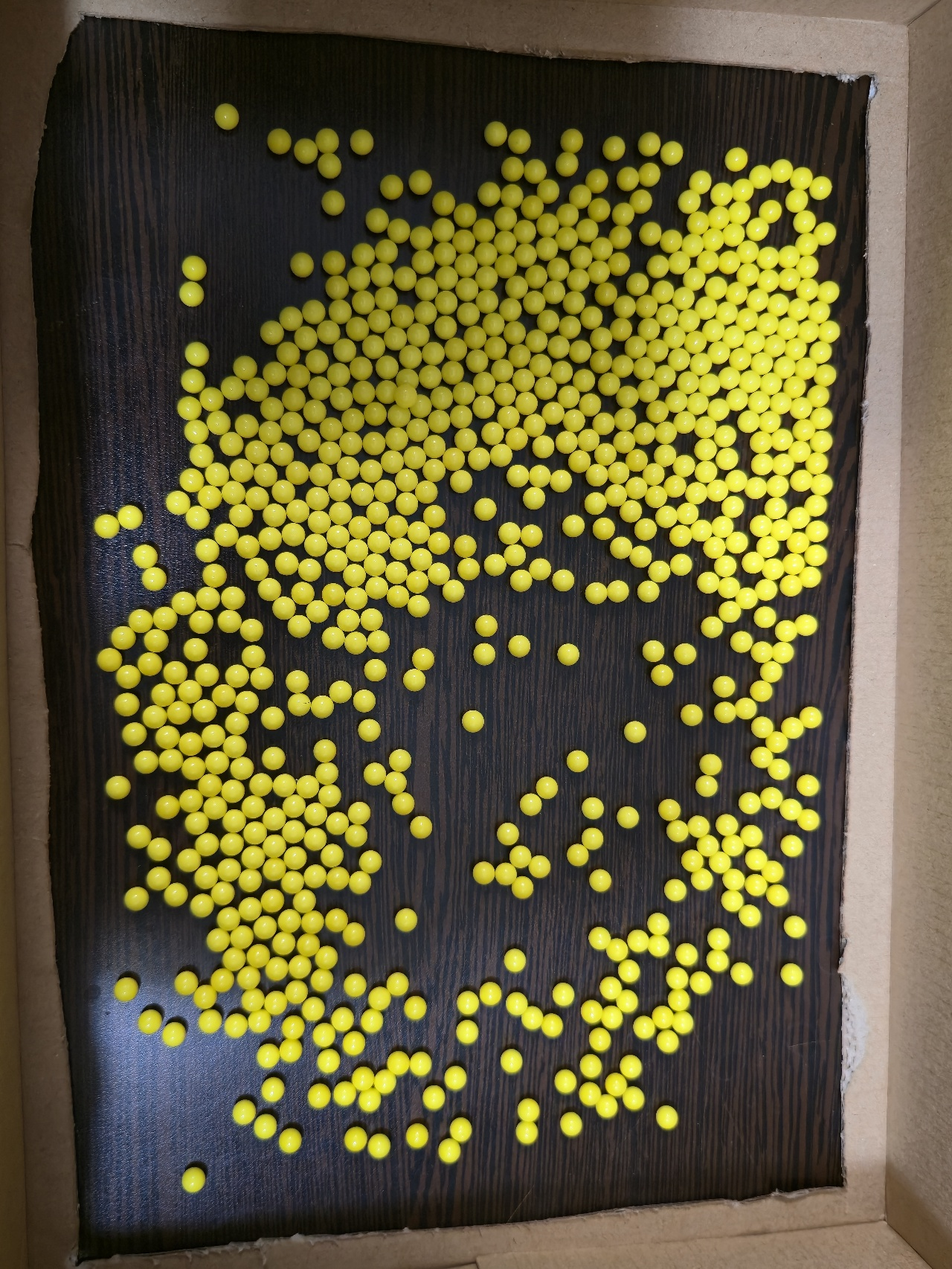yellow_bead: (138, 550, 152, 563), (123, 511, 137, 524), (191, 511, 204, 524), (195, 449, 208, 462), (509, 954, 521, 967), (100, 520, 112, 533), (173, 496, 185, 509), (225, 437, 237, 450), (755, 170, 767, 183), (776, 165, 788, 178), (210, 469, 224, 480), (695, 977, 707, 989), (786, 968, 798, 980), (744, 910, 756, 922), (201, 544, 213, 556), (727, 501, 739, 513), (333, 483, 345, 495), (776, 434, 788, 446), (799, 216, 811, 228), (260, 1120, 271, 1133), (429, 1091, 440, 1104), (506, 1055, 517, 1068), (462, 1026, 473, 1039), (527, 1012, 538, 1025), (287, 528, 300, 539), (771, 481, 784, 492), (815, 479, 828, 490), (212, 417, 225, 428), (450, 1072, 461, 1084), (463, 997, 474, 1009), (558, 989, 569, 1001), (672, 972, 684, 983), (736, 968, 747, 980), (681, 948, 692, 960), (633, 935, 644, 947), (790, 921, 801, 933), (670, 884, 681, 896), (268, 813, 279, 825), (785, 804, 797, 815), (358, 695, 370, 706), (718, 681, 730, 692), (759, 612, 771, 623), (747, 557, 759, 568), (762, 542, 774, 553), (811, 526, 823, 537), (717, 521, 728, 533), (796, 475, 808, 486), (260, 469, 272, 480), (701, 466, 712, 478), (721, 453, 733, 464), (743, 416, 755, 427), (723, 373, 735, 384), (191, 348, 202, 360), (701, 302, 712, 314), (684, 196, 695, 208), (791, 195, 803, 206), (667, 147, 678, 159), (566, 1118, 576, 1131), (416, 1057, 426, 1070), (169, 1028, 179, 1041), (639, 1021, 649, 1034), (309, 1003, 319, 1016), (512, 997, 522, 1010), (623, 995, 633, 1008), (595, 932, 605, 945), (780, 626, 793, 636), (235, 464, 248, 474), (521, 1128, 532, 1139), (523, 1105, 534, 1116), (374, 993, 385, 1004), (401, 914, 412, 925), (595, 875, 606, 886), (715, 857, 726, 868), (787, 841, 798, 852), (587, 833, 598, 844), (747, 830, 758, 841), (672, 826, 683, 837), (623, 812, 634, 823), (803, 780, 814, 791), (757, 722, 768, 733), (292, 675, 303, 686), (766, 666, 777, 677), (778, 647, 789, 658), (725, 606, 736, 617), (643, 586, 654, 597), (654, 566, 665, 577), (811, 550, 822, 561), (616, 542, 627, 553), (732, 537, 743, 548), (504, 528, 515, 539), (793, 513, 804, 524), (731, 475, 742, 486), (343, 462, 354, 473), (777, 459, 788, 470), (812, 458, 823, 469), (794, 446, 805, 457), (538, 441, 549, 452), (429, 440, 440, 451), (816, 436, 827, 447), (720, 431, 731, 442), (522, 397, 533, 408), (732, 394, 743, 405), (745, 376, 756, 387), (779, 362, 790, 373), (815, 347, 826, 358), (763, 318, 774, 329), (689, 273, 700, 284), (716, 188, 727, 199), (662, 1111, 672, 1123), (627, 1061, 637, 1073), (230, 1020, 240, 1032), (606, 982, 616, 994), (727, 897, 739, 907), (800, 620, 812, 630), (785, 581, 797, 591), (509, 550, 521, 560), (332, 530, 344, 540), (220, 529, 232, 539), (777, 524, 787, 536), (810, 501, 822, 511), (312, 492, 324, 502), (512, 470, 524, 480), (756, 437, 768, 447), (755, 396, 765, 408), (729, 331, 739, 343), (824, 286, 834, 298), (562, 1075, 571, 1088), (130, 893, 143, 902), (240, 420, 253, 429), (663, 1037, 674, 1047), (338, 1013, 348, 1024), (653, 942, 664, 952), (713, 934, 724, 944), (653, 919, 664, 929), (728, 874, 739, 884), (751, 854, 762, 864), (327, 849, 338, 859), (694, 821, 704, 832), (722, 820, 733, 830), (588, 803, 598, 814), (774, 764, 785, 774), (757, 752, 768, 762), (788, 723, 799, 733), (742, 703, 752, 714), (736, 637, 747, 647), (761, 585, 772, 595), (805, 572, 816, 582), (768, 564, 779, 574), (720, 561, 731, 571), (676, 559, 686, 570), (490, 559, 501, 569), (697, 525, 707, 536), (756, 521, 767, 531), (662, 511, 672, 522), (683, 508, 693, 519), (529, 492, 540, 502), (692, 488, 702, 499), (358, 488, 368, 499), (228, 486, 239, 496), (713, 485, 723, 496), (751, 483, 762, 493), (366, 465, 377, 475), (430, 464, 440, 475), (757, 459, 768, 469), (387, 456, 398, 466), (660, 450, 671, 460), (496, 449, 506, 460), (701, 444, 711, 455), (488, 428, 498, 439), (287, 417, 298, 427), (680, 417, 690, 428), (817, 413, 827, 424), (457, 411, 467, 422), (714, 404, 724, 415), (813, 391, 824, 401), (227, 383, 238, 393), (705, 379, 715, 390), (709, 325, 719, 336), (675, 257, 685, 268), (764, 252, 774, 263), (797, 173, 807, 184), (298, 896, 310, 905), (153, 843, 165, 852), (268, 840, 280, 849), (309, 834, 321, 843), (112, 781, 124, 790), (394, 755, 406, 764), (335, 686, 347, 695), (312, 605, 324, 614), (147, 573, 159, 582), (351, 544, 363, 553), (335, 507, 347, 516), (292, 505, 304, 514), (315, 469, 327, 478), (724, 307, 733, 319), (795, 303, 804, 315), (801, 239, 813, 248), (223, 615, 236, 623), (177, 597, 190, 605), (202, 592, 215, 600), (309, 539, 322, 547), (313, 516, 326, 524), (502, 868, 512, 878), (526, 799, 536, 809), (767, 793, 777, 803), (630, 727, 640, 737), (468, 716, 478, 726), (807, 712, 817, 722), (649, 646, 659, 656), (559, 575, 569, 585), (611, 489, 621, 499), (457, 475, 467, 485), (649, 469, 659, 479), (614, 467, 624, 477), (475, 453, 485, 463), (305, 434, 315, 444), (776, 398, 786, 408), (337, 393, 347, 403), (766, 379, 776, 389), (821, 370, 831, 380), (498, 364, 508, 374), (758, 358, 768, 368), (670, 332, 680, 342), (685, 315, 695, 325), (743, 314, 753, 324), (815, 306, 825, 316), (679, 1018, 688, 1029), (204, 1018, 215, 1027), (625, 966, 634, 977), (713, 957, 724, 966), (259, 921, 270, 930), (245, 902, 254, 913), (355, 877, 366, 886), (309, 870, 320, 879), (183, 854, 194, 863), (353, 807, 364, 816), (289, 800, 300, 809), (140, 756, 151, 765), (268, 752, 279, 761), (208, 730, 219, 739), (318, 701, 329, 710), (409, 675, 420, 684), (257, 672, 268, 681), (370, 664, 381, 673), (759, 647, 768, 658), (514, 640, 525, 649), (294, 620, 305, 629), (343, 614, 354, 623), (591, 588, 602, 597), (448, 585, 459, 594), (725, 582, 734, 593), (516, 575, 527, 584), (416, 553, 427, 562), (711, 542, 720, 553), (414, 527, 425, 536), (402, 498, 413, 507), (536, 470, 545, 481), (680, 460, 689, 471), (409, 452, 420, 461), (277, 448, 288, 457), (324, 447, 335, 456), (370, 437, 379, 448), (347, 437, 356, 448), (799, 425, 810, 434), (414, 424, 423, 435), (694, 398, 703, 409), (673, 396, 682, 407), (521, 374, 530, 385), (675, 354, 684, 365), (341, 345, 350, 356), (750, 336, 759, 347), (805, 326, 814, 337), (680, 292, 689, 303), (712, 282, 721, 293), (765, 275, 774, 286), (785, 251, 794, 262), (382, 1076, 390, 1088), (263, 1051, 271, 1063), (776, 890, 784, 902), (152, 873, 164, 881), (364, 856, 376, 864), (267, 712, 279, 720), (242, 696, 254, 704), (327, 632, 339, 640), (278, 602, 290, 610), (263, 583, 275, 591), (251, 563, 263, 571), (373, 536, 385, 544), (268, 510, 280, 518), (235, 510, 247, 518), (277, 486, 289, 494), (401, 475, 413, 483), (662, 370, 670, 382), (247, 651, 260, 658), (196, 899, 205, 909), (170, 888, 180, 897), (697, 876, 707, 885), (770, 866, 779, 876), (290, 852, 300, 861), (730, 841, 739, 851), (704, 841, 713, 851), (133, 830, 143, 839), (543, 783, 553, 792), (391, 777, 401, 786), (237, 762, 247, 771), (706, 759, 716, 768), (687, 710, 697, 719), (681, 649, 691, 658), (480, 649, 490, 658), (709, 622, 718, 632), (135, 614, 145, 623), (614, 586, 623, 596), (390, 567, 400, 576), (637, 551, 646, 561), (672, 481, 681, 491), (620, 437, 630, 446), (562, 437, 572, 446), (585, 434, 594, 444), (463, 434, 472, 444), (393, 433, 402, 443), (701, 422, 711, 431), (600, 418, 609, 428), (570, 415, 579, 425), (549, 408, 559, 417), (480, 401, 489, 411), (737, 353, 746, 363), (792, 344, 801, 354), (771, 341, 780, 351), (825, 327, 834, 337), (663, 310, 672, 320), (187, 287, 197, 296), (804, 262, 813, 272), (736, 208, 745, 218), (739, 184, 748, 194), (631, 1092, 639, 1103), (609, 1012, 617, 1023), (754, 880, 762, 891), (224, 864, 235, 872), (288, 826, 299, 834), (191, 818, 202, 826), (228, 815, 239, 823), (310, 809, 321, 817), (279, 780, 290, 788), (370, 768, 381, 776), (321, 768, 332, 776), (364, 725, 375, 733), (231, 670, 242, 678), (350, 637, 361, 645), (246, 624, 257, 632), (228, 592, 239, 600), (371, 582, 382, 590), (434, 568, 445, 576), (535, 564, 546, 572), (370, 559, 381, 567), (282, 557, 293, 565), (568, 521, 579, 529), (480, 504, 491, 512), (203, 491, 214, 499), (380, 485, 391, 493), (252, 446, 263, 454), (304, 332, 312, 343), (378, 1140, 385, 1152), (248, 802, 260, 809), (229, 741, 241, 748), (196, 616, 208, 623), (251, 492, 263, 499), (393, 978, 402, 987), (536, 861, 545, 870), (721, 707, 730, 716), (759, 686, 768, 695), (564, 649, 573, 658), (643, 524, 652, 533), (628, 506, 637, 515), (592, 498, 601, 507), (633, 483, 642, 492), (505, 411, 514, 420), (565, 391, 574, 400), (791, 382, 800, 391), (415, 330, 424, 339), (325, 327, 334, 336), (660, 287, 669, 296), (730, 230, 739, 239), (324, 1058, 332, 1068), (615, 945, 623, 955), (212, 935, 222, 943), (223, 913, 233, 921), (200, 871, 210, 879), (202, 838, 212, 846), (416, 821, 426, 829), (806, 815, 814, 825), (212, 756, 222, 764), (128, 728, 138, 736), (367, 614, 377, 622), (414, 600, 424, 608), (356, 521, 366, 529), (373, 507, 383, 515), (654, 491, 662, 501), (642, 428, 650, 438), (663, 427, 671, 437), (312, 405, 320, 415), (588, 399, 596, 409), (405, 391, 413, 401), (803, 363, 811, 373), (408, 351, 416, 361), (393, 333, 401, 343), (734, 288, 742, 298), (448, 1146, 455, 1157), (295, 963, 306, 970), (226, 839, 237, 846), (324, 791, 335, 798), (303, 781, 314, 788), (255, 779, 266, 786), (165, 755, 176, 762), (776, 737, 783, 748), (161, 731, 172, 738), (231, 718, 242, 725), (121, 698, 132, 705), (201, 669, 212, 676), (190, 643, 201, 650), (373, 636, 384, 643), (159, 612, 170, 619), (351, 593, 362, 600), (703, 581, 714, 588), (349, 570, 360, 577), (457, 1128, 466, 1136), (367, 1098, 375, 1107), (321, 1029, 327, 1041), (254, 1019, 262, 1028), (370, 1018, 378, 1027), (480, 867, 489, 875), (574, 756, 583, 764), (200, 705, 209, 713), (185, 685, 194, 693), (123, 670, 132, 678), (795, 538, 803, 547), (678, 530, 686, 539), (594, 469, 602, 478), (602, 449, 611, 457), (193, 425, 202, 433), (532, 420, 540, 429), (623, 414, 631, 423), (316, 383, 324, 392), (543, 382, 551, 391), (559, 367, 567, 376), (556, 341, 564, 350), (466, 309, 474, 318), (423, 307, 431, 316), (745, 269, 753, 278), (689, 240, 698, 248), (605, 1103, 612, 1113), (247, 997, 257, 1004), (351, 979, 358, 989), (219, 888, 229, 895), (248, 852, 258, 859), (399, 798, 409, 805), (228, 786, 238, 793), (171, 666, 181, 673), (742, 597, 752, 604), (209, 569, 219, 576), (450, 454, 460, 461), (266, 427, 276, 434), (440, 392, 447, 402), (583, 375, 590, 385), (432, 348, 439, 358), (579, 346, 586, 356), (728, 256, 735, 266), (278, 939, 289, 945), (245, 876, 256, 882), (265, 533, 276, 539), (657, 261, 663, 272), (294, 466, 302, 474), (329, 423, 337, 431), (289, 315, 297, 323), (484, 272, 492, 280), (188, 264, 196, 272), (716, 212, 724, 220), (223, 113, 231, 121), (271, 997, 278, 1006), (294, 988, 303, 995), (122, 983, 129, 992), (183, 977, 190, 986), (576, 849, 583, 858), (352, 831, 361, 838), (668, 804, 675, 813), (149, 711, 158, 718), (419, 654, 428, 661), (152, 634, 161, 641), (483, 620, 492, 627), (423, 486, 432, 493), (483, 378, 490, 387), (337, 370, 344, 379), (315, 356, 322, 365), (372, 341, 379, 350), (636, 279, 643, 288), (692, 855, 698, 865), (209, 803, 219, 809), (527, 530, 537, 536), (627, 391, 633, 401), (467, 283, 473, 293), (589, 1064, 596, 1072), (245, 974, 253, 981), (231, 954, 238, 962), (285, 915, 293, 922), (660, 670, 668, 677), (118, 632, 126, 639), (514, 433, 522, 440), (429, 372, 436, 380), (475, 356, 482, 364), (338, 307, 345, 315), (509, 305, 516, 313), (706, 257, 713, 265), (546, 244, 553, 252), (701, 786, 712, 791), (649, 385, 654, 396), (414, 1006, 420, 1015), (289, 878, 298, 884), (744, 797, 753, 803), (158, 689, 167, 695), (243, 541, 252, 547), (393, 521, 402, 527), (205, 394, 214, 400), (540, 360, 546, 369), (536, 335, 542, 344), (570, 322, 576, 331), (446, 297, 452, 306), (426, 284, 432, 293), (187, 1175, 197, 1180), (554, 286, 559, 296), (521, 883, 528, 890), (186, 795, 193, 802), (602, 523, 609, 530), (438, 416, 445, 423), (312, 309, 319, 316), (320, 977, 328, 983), (274, 963, 280, 971), (294, 699, 300, 707), (395, 591, 403, 597), (414, 576, 422, 582), (466, 564, 474, 570), (436, 538, 444, 544), (577, 456, 585, 462), (504, 388, 510, 396), (387, 362, 393, 370), (405, 274, 411, 282), (358, 274, 364, 282), (581, 253, 587, 261), (649, 139, 655, 147), (342, 1092, 347, 1101), (395, 414, 404, 419), (645, 363, 650, 372), (494, 319, 499, 328), (237, 932, 243, 939), (335, 873, 341, 880), (464, 389, 470, 396), (622, 362, 628, 369), (657, 347, 663, 354), (379, 317, 385, 324), (578, 276, 584, 283), (381, 272, 387, 279), (525, 252, 531, 259), (712, 237, 718, 244), (271, 1085, 279, 1090), (602, 333, 607, 341), (649, 324, 654, 332), (446, 324, 451, 332), (548, 316, 553, 324), (592, 313, 597, 321), (625, 302, 630, 310), (574, 298, 579, 306), (364, 298, 369, 306), (447, 274, 452, 282), (678, 999, 684, 1005), (190, 763, 196, 769), (332, 588, 338, 594), (788, 559, 797, 563), (243, 364, 249, 370), (466, 261, 472, 267), (652, 228, 656, 237), (512, 193, 518, 199), (300, 588, 307, 593), (463, 541, 470, 546), (272, 405, 277, 412), (361, 363, 366, 370), (386, 294, 391, 301), (386, 247, 391, 254), (559, 481, 567, 485), (421, 401, 425, 409), (535, 298, 539, 306), (518, 283, 522, 291), (446, 249, 450, 257), (630, 174, 634, 182), (326, 953, 332, 958), (353, 928, 358, 934), (208, 780, 213, 786), (187, 739, 193, 744), (224, 690, 229, 696), (147, 658, 152, 664), (107, 654, 112, 660), (401, 547, 407, 552), (658, 408, 663, 414), (274, 370, 280, 375), (636, 344, 641, 350), (271, 330, 277, 335), (515, 329, 520, 335), (487, 297, 492, 303), (559, 267, 564, 273), (423, 259, 428, 265), (486, 251, 491, 257), (602, 245, 607, 251), (567, 237, 573, 242), (443, 228, 448, 234), (588, 227, 593, 233), (489, 191, 495, 196), (536, 167, 541, 173), (239, 1107, 246, 1111), (591, 1009, 595, 1016), (663, 1014, 666, 1023), (611, 379, 614, 388), (176, 708, 181, 713), (352, 417, 357, 422), (257, 387, 262, 392), (647, 304, 652, 309), (599, 269, 604, 274), (506, 240, 511, 245), (672, 237, 677, 242), (506, 216, 511, 221), (567, 161, 572, 166), (591, 1093, 595, 1099), (270, 895, 274, 901), (517, 858, 525, 861), (407, 375, 413, 379), (521, 352, 525, 358), (569, 212, 573, 218), (624, 211, 628, 217), (815, 190, 821, 194), (616, 144, 620, 150), (600, 1039, 605, 1043), (552, 1027, 556, 1032), (312, 919, 317, 923), (639, 456, 643, 461), (364, 389, 368, 394), (453, 370, 457, 375), (456, 346, 460, 351), (497, 345, 501, 350), (358, 325, 362, 330), (364, 253, 369, 257), (421, 235, 425, 240), (525, 230, 530, 234), (399, 229, 404, 233), (549, 223, 553, 228), (771, 504, 774, 510), (538, 274, 541, 280), (582, 193, 585, 199), (274, 866, 278, 870), (602, 359, 606, 363), (476, 335, 480, 339), (378, 218, 382, 222), (652, 171, 654, 179), (497, 132, 501, 136), (337, 559, 342, 562), (713, 348, 716, 353), (338, 286, 341, 291), (643, 198, 646, 203), (785, 323, 792, 325), (617, 1086, 620, 1090), (509, 835, 513, 838), (257, 832, 260, 836), (800, 403, 806, 405), (295, 397, 298, 401), (684, 377, 690, 379), (288, 352, 292, 355), (404, 315, 407, 319), (303, 263, 306, 267), (549, 189, 553, 192), (187, 475, 192, 477), (332, 823, 335, 826), (623, 327, 626, 330), (421, 181, 424, 184), (307, 150, 310, 153), (299, 374, 301, 378), (335, 201, 337, 205), (522, 139, 524, 143), (248, 1113, 250, 1116), (290, 1051, 292, 1054), (621, 263, 624, 265), (465, 240, 467, 243), (623, 234, 625, 237), (486, 230, 489, 232), (602, 208, 605, 210), (331, 164, 333, 167), (191, 375, 196, 376), (767, 417, 771, 418), (364, 1079, 365, 1082), (492, 988, 493, 991), (309, 942, 310, 945), (752, 228, 753, 231), (318, 1098, 320, 1099), (222, 979, 224, 980), (503, 833, 504, 835), (166, 801, 167, 803), (309, 571, 311, 572), (775, 503, 777, 504), (376, 412, 377, 414), (198, 380, 199, 382), (609, 293, 611, 294), (508, 266, 509, 268), (336, 261, 337, 263), (757, 223, 759, 224), (364, 142, 365, 144), (293, 1030, 294, 1031), (151, 1020, 152, 1021), (120, 992, 121, 993), (168, 805, 169, 806), (319, 750, 320, 751), (179, 509, 180, 510), (185, 478, 186, 479), (798, 404, 799, 405), (186, 403, 187, 404), (821, 181, 822, 182), (515, 167, 516, 168), (338, 921, 338, 922), (312, 571, 313, 571), (330, 559, 331, 559), (764, 423, 765, 423), (387, 389, 387, 390), (387, 388, 388, 388), (691, 379, 692, 379), (704, 359, 704, 360), (700, 359, 703, 359), (825, 228, 826, 228), (753, 226, 753, 227)
